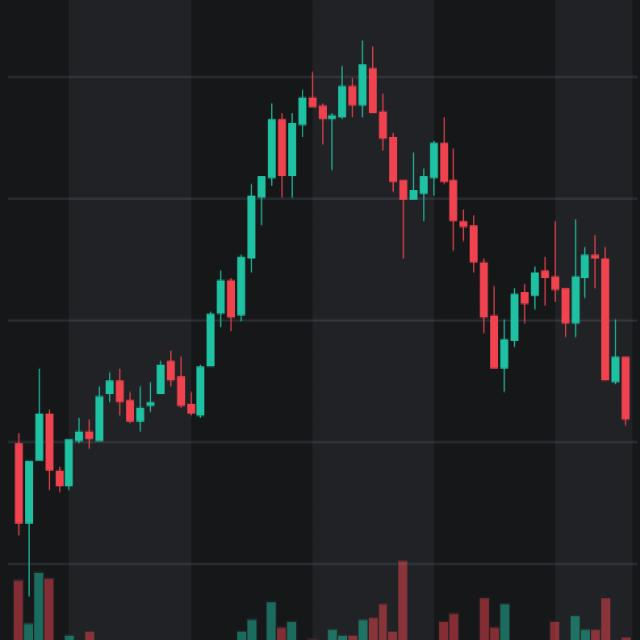Resistance-breakout: (77, 35, 410, 440)
